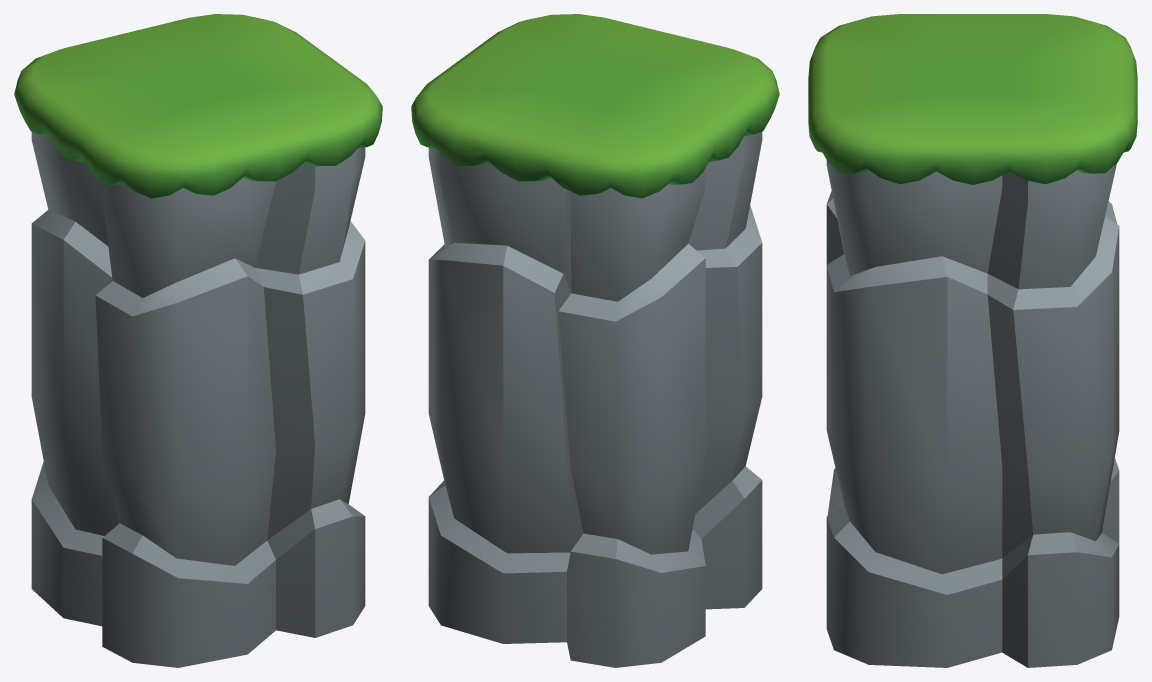
File: Hill_4x4x8_Color1.gltf
The picture shows the model from 3 angles, left to right: view 1: azimuth 30°, elevation 25°; view 2: azimuth 150°, elevation 25°; view 3: azimuth 270°, elevation 25°; orthographic projection. The views are drawn at different scales.
Parts seen in each view (by area): view 1: Hill_4x4x8_Color1; view 2: Hill_4x4x8_Color1; view 3: Hill_4x4x8_Color1.
Part boxes in pixels (x1=…): Hill_4x4x8_Color1: x1=14, y1=14, x2=382, y2=667; Hill_4x4x8_Color1: x1=411, y1=14, x2=779, y2=667; Hill_4x4x8_Color1: x1=808, y1=14, x2=1137, y2=667.
Size of the model in its own units: 4.5 by 8 by 4.5.
1 material, 1 textured.
